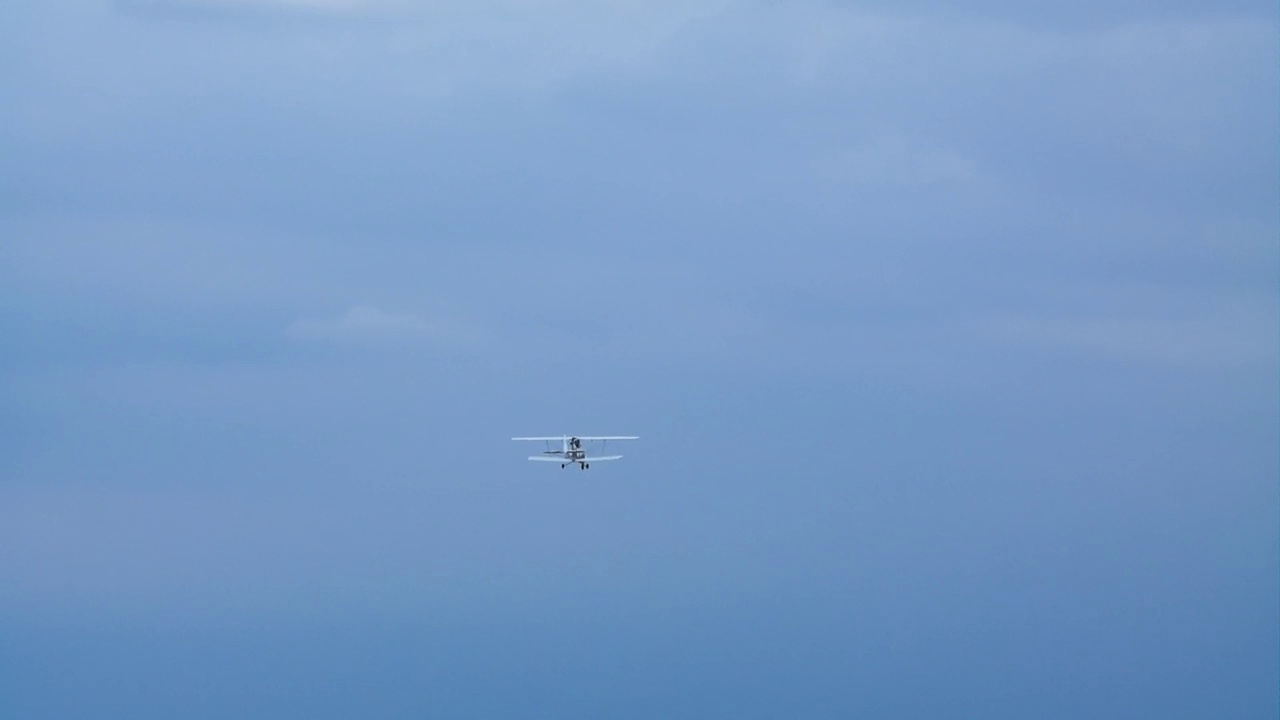plane: (511, 431, 639, 470)
